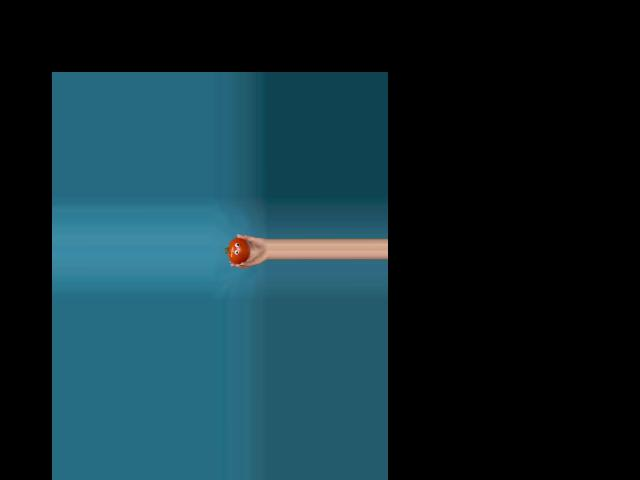tomato: (228, 237, 250, 264)
